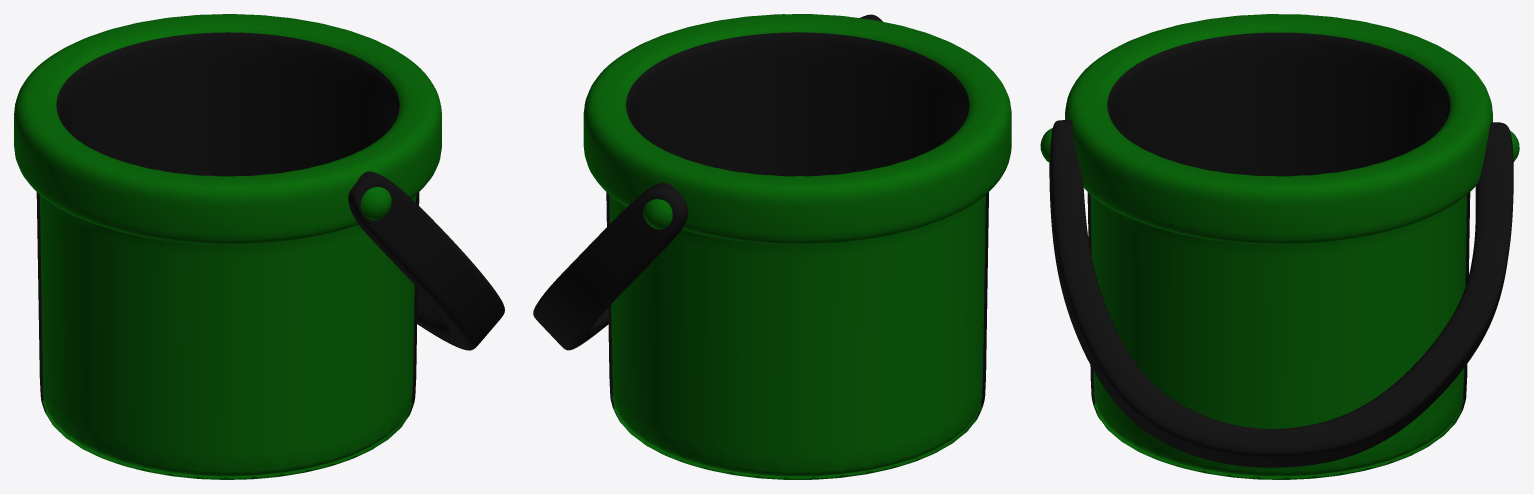
The model's file is bucket_ponyo.obj.
The picture shows the model from 3 angles, left to right: view 1: azimuth 30°, elevation 25°; view 2: azimuth 150°, elevation 25°; view 3: azimuth 270°, elevation 25°; orthographic projection.
Parts seen in each view (by area): view 1: Cylinder.004_Cylinder.005, Cube, Cube.002_Cube.005; view 2: Cylinder.004_Cylinder.005, Cube, Cube.001_Cube.003; view 3: Cylinder.004_Cylinder.005, Cube.
Part boxes in pixels (box(x1,y1,x2,y2)): Cylinder.004_Cylinder.005: box(14, 14, 441, 479); Cube: box(348, 171, 504, 350); Cube.002_Cube.005: box(360, 187, 391, 220); Cylinder.004_Cylinder.005: box(583, 14, 1011, 479); Cube: box(533, 14, 882, 350); Cube.001_Cube.003: box(643, 199, 672, 229); Cylinder.004_Cylinder.005: box(1065, 14, 1492, 479); Cube: box(1049, 120, 1513, 467).
Size of the model in its own units: 3.59 by 2.54 by 3.6.
Materials: 5 (4 with a texture image).
